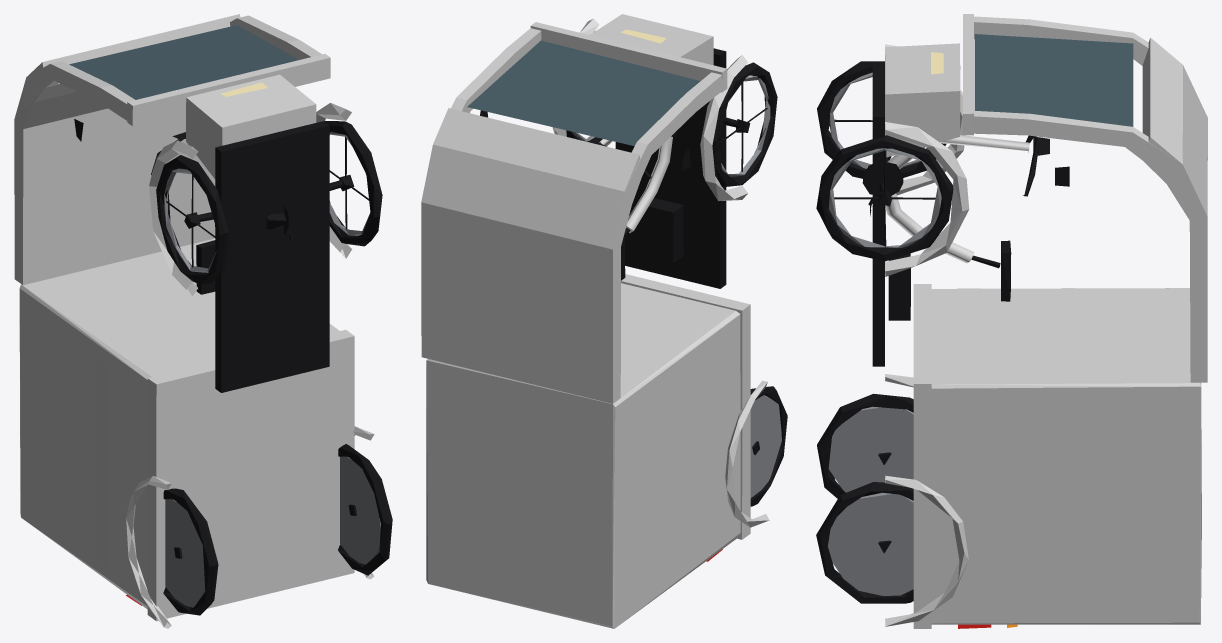
The model's file is SolarpunkCoveredCargoBike01_LOD1.fbx.
3 renders of one model, left to right at view 1: azimuth 30°, elevation 25°; view 2: azimuth 150°, elevation 25°; view 3: azimuth 270°, elevation 25°, orthographic. The views are drawn at different scales.
Parts seen in each view (by area): view 1: SolarpunkCoveredCargoBike01_LOD1; view 2: SolarpunkCoveredCargoBike01_LOD1; view 3: SolarpunkCoveredCargoBike01_LOD1.
Part boxes in pixels (x1,y1,x2,y2): SolarpunkCoveredCargoBike01_LOD1: (14, 14, 392, 628); SolarpunkCoveredCargoBike01_LOD1: (421, 14, 787, 628); SolarpunkCoveredCargoBike01_LOD1: (816, 14, 1207, 628).
Size of the model in its own units: 121 by 275 by 188.
Materials: 1 (1 with a texture image).
